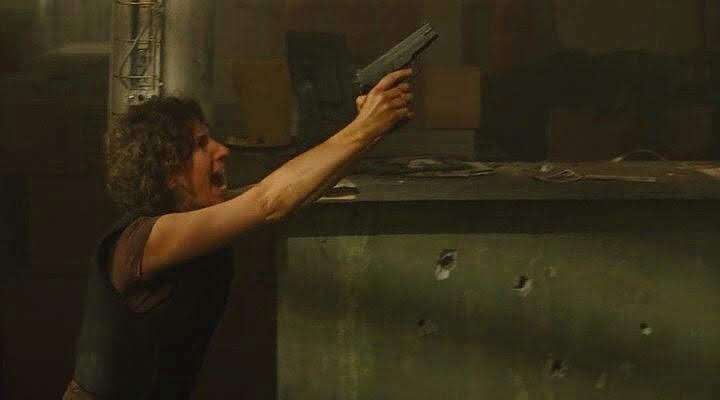gun: (342, 11, 446, 178)
